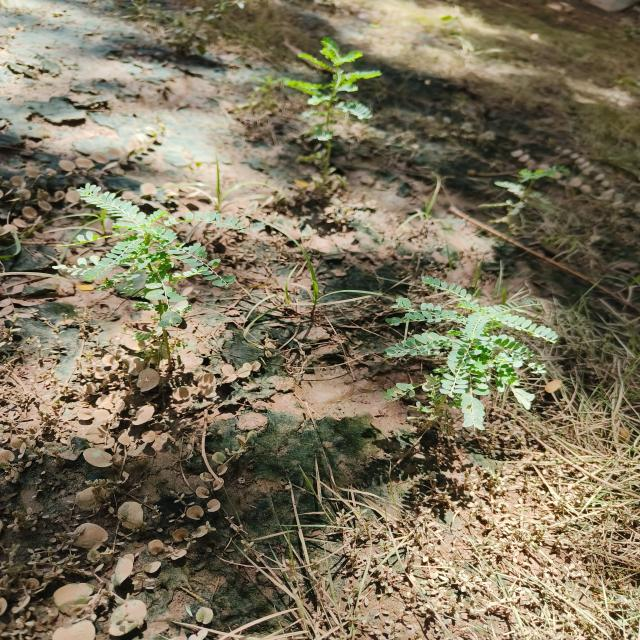weed: (372, 265, 553, 435), (69, 210, 223, 323)
